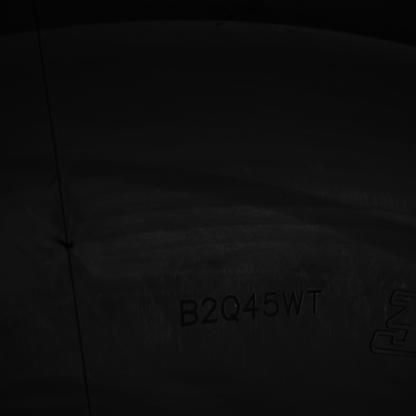ocr: (178, 287, 324, 332)
